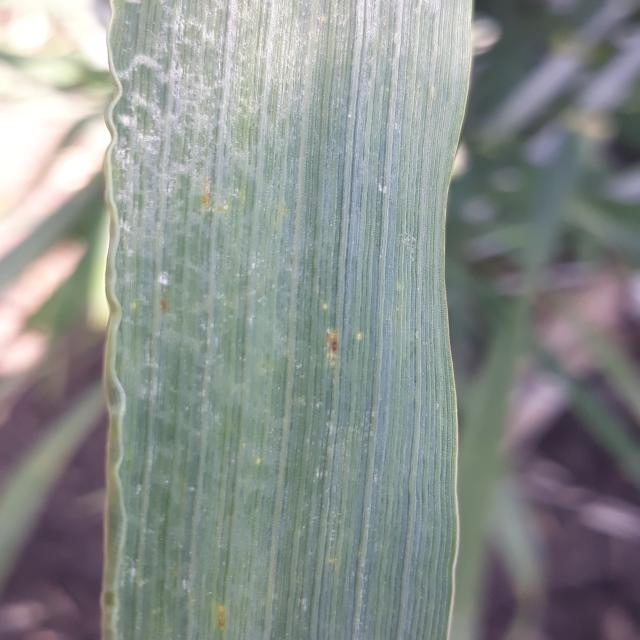orang_rust: (93, 2, 492, 640)
